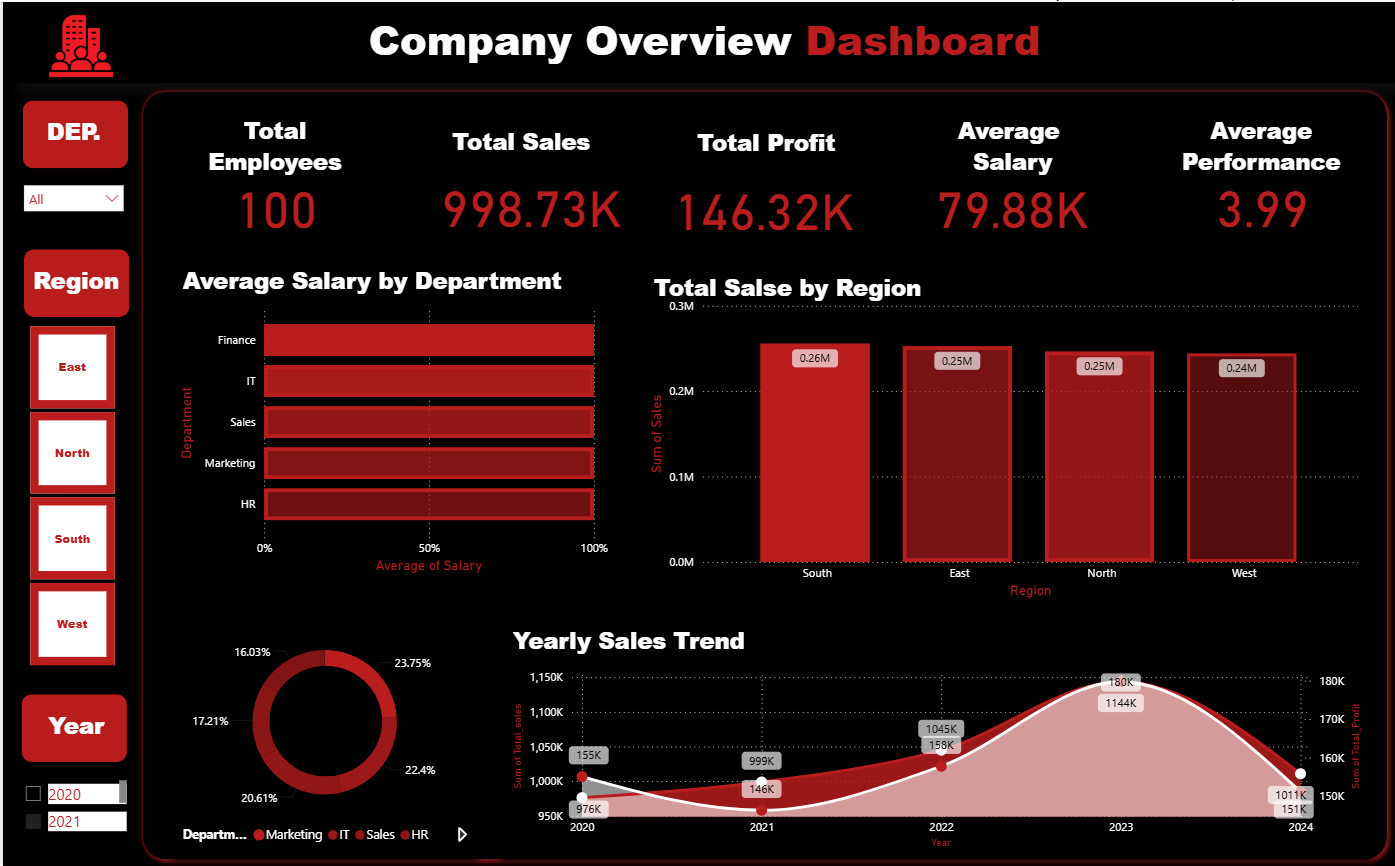

Layout of this report page (visuals, bound fields, positions):
{"tool":"powerbi","page":{"name":"Page 1","canvas":[1480,920],"ordinal":0},"visuals":[{"type":"shape","box":[140,86,1340,834],"z":0},{"type":"shape","box":[12,254,130,90],"z":0,"group":"g2"},{"type":"shape","box":[166,106,250,160],"z":1000},{"type":"group","id":"g1","title":"Group 1","box":[2,274,140,438],"z":1000,"group":"g2"},{"type":"shape","box":[424,106,250,160],"z":2000},{"type":"shape","box":[686,106,250,160],"z":3000},{"type":"shape","box":[1214,104,250,160],"z":4000},{"type":"shape","box":[952,104,250,160],"z":5000},{"type":"shape","box":[664,264,800,380],"z":6000},{"type":"shape","box":[170,264,494,376],"z":7000},{"type":"shape","box":[165.6,644.4,348.9,275.6],"z":8000},{"type":"shape","box":[514,644,950,276],"z":9000},{"type":"card","fields":{"Values":["CountNonNull(employees.EmployeeID)"]},"box":[240,176,100,76],"z":10000},{"type":"card","fields":{"Values":["Avg(employees.Salary)"]},"box":[982,182,182,64],"z":11000},{"type":"card","fields":{"Values":["Sum(sales.Profit)"]},"box":[702,182,212,70],"z":12000},{"type":"card","fields":{"Values":["Sum(sales.Sales)"]},"box":[460,171.4,204.3,84.3],"z":13000},{"type":"card","fields":{"Values":["Avg(employees.PerformanceScore)"]},"box":[1282,176,114,74],"z":14000},{"type":"hundredPercentStackedBarChart","fields":{"Category":["employees.Department"],"Y":["Avg(employees.Salary)"]},"box":[182,312,466,300],"z":15000},{"type":"clusteredColumnChart","fields":{"Category":["sales.Region"],"Y":["Sum(sales.Sales)"]},"box":[680,308,766,332],"z":16000},{"type":"donutChart","fields":{"Category":["dept_profit.Department"],"Y":["Sum(dept_profit.Profit_share)"]},"box":[186,656,312,248],"z":17000},{"type":"lineChart","fields":{"Category":["sales_trend.Year"],"Y":["Sum(sales_trend.Total_sales)"],"Y2":["Sum(sales_trend.Total_Profit)"]},"box":[536,702,912,202],"z":18000},{"type":"slicer","fields":{"Values":["sales.Category"]},"box":[12,184,126,68],"z":19000},{"type":"slicer","fields":{"Values":["sales.Region"]},"box":[2,338,140,374],"z":19000,"group":"g1"},{"type":"slicer","fields":{"Values":["sales.Date.Variation.Date Hierarchy.Year"]},"box":[10,822,126,70],"z":20000},{"type":"shape","title":"CIRCLE","box":[282.2,705.6,120,117.8],"z":21000},{"type":"textbox","box":[178,114,222,86],"z":22000},{"type":"textbox","box":[700,128,222,58],"z":23000},{"type":"textbox","box":[962,114,222,86],"z":24000},{"type":"textbox","box":[1226,114,222,86],"z":25000},{"type":"textbox","box":[440,126,222,58],"z":26000},{"type":"textbox","box":[186,274,414,60],"z":27000},{"type":"textbox","box":[686,282,414,60],"z":28000},{"type":"textbox","box":[536,656,414,60],"z":29000},{"type":"textbox","box":[14,274,126,50],"z":29003,"group":"g1"},{"type":"shape","box":[12,96,130,90],"z":30000},{"type":"textbox","box":[12,116,126,50],"z":31000},{"type":"group","id":"g2","title":"Group 2","box":[2,254,140,458],"z":32000},{"type":"shape","box":[10,726,130,90],"z":33000},{"type":"textbox","box":[14,746,126,50],"z":34000},{"type":"textbox","box":[10,4,1470,82],"z":35000},{"type":"image","box":[10,4,144,86],"z":36000}]}

Visuals, with their boxes in screenshot pixels (x1, y1, x2, y2), scaled from the page's 1480x920 canvas onto the 1395x866 screenshot:
shape: detection(132, 81, 1394, 865)
shape: detection(11, 239, 134, 324)
shape: detection(156, 100, 392, 250)
"Group 1" group: detection(2, 258, 134, 670)
shape: detection(400, 100, 635, 250)
shape: detection(647, 100, 882, 250)
shape: detection(1144, 98, 1380, 249)
shape: detection(897, 98, 1133, 249)
shape: detection(626, 249, 1380, 606)
shape: detection(160, 249, 626, 602)
shape: detection(156, 607, 485, 865)
shape: detection(484, 606, 1380, 865)
card - CountNonNull(employees.EmployeeID): detection(226, 166, 320, 237)
card - Avg(employees.Salary): detection(926, 171, 1097, 232)
card - Sum(sales.Profit): detection(662, 171, 862, 237)
card - Sum(sales.Sales): detection(434, 161, 626, 241)
card - Avg(employees.PerformanceScore): detection(1208, 166, 1316, 235)
hundredPercentStackedBarChart - employees.Department x Avg(employees.Salary): detection(172, 294, 611, 576)
clusteredColumnChart - sales.Region x Sum(sales.Sales): detection(641, 290, 1363, 602)
donutChart - dept_profit.Department x Sum(dept_profit.Profit_share): detection(175, 617, 469, 851)
lineChart - sales_trend.Year x Sum(sales_trend.Total_sales): detection(505, 661, 1365, 851)
slicer - sales.Category: detection(11, 173, 130, 237)
slicer - sales.Region: detection(2, 318, 134, 670)
slicer - sales.Date.Variation.Date Hierarchy.Year: detection(9, 774, 128, 840)
"CIRCLE" shape: detection(266, 664, 379, 775)
textbox: detection(168, 107, 377, 188)
textbox: detection(660, 120, 869, 175)
textbox: detection(907, 107, 1116, 188)
textbox: detection(1156, 107, 1365, 188)
textbox: detection(415, 119, 624, 173)
textbox: detection(175, 258, 566, 314)
textbox: detection(647, 265, 1037, 322)
textbox: detection(505, 617, 895, 674)
textbox: detection(13, 258, 132, 305)
shape: detection(11, 90, 134, 175)
textbox: detection(11, 109, 130, 156)
"Group 2" group: detection(2, 239, 134, 670)
shape: detection(9, 683, 132, 768)
textbox: detection(13, 702, 132, 749)
textbox: detection(9, 4, 1394, 81)
image: detection(9, 4, 145, 85)
